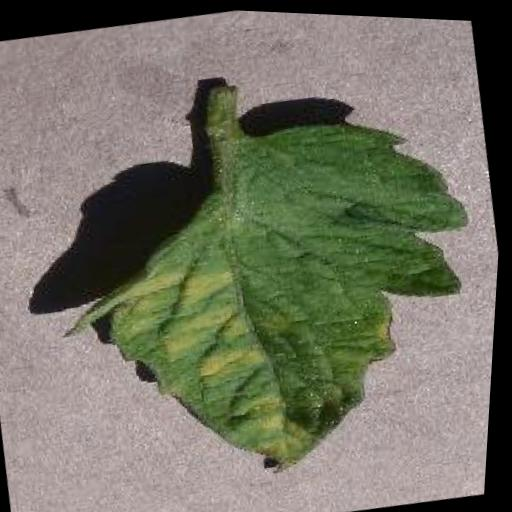Leaf Mold: (26, 85, 508, 512)
